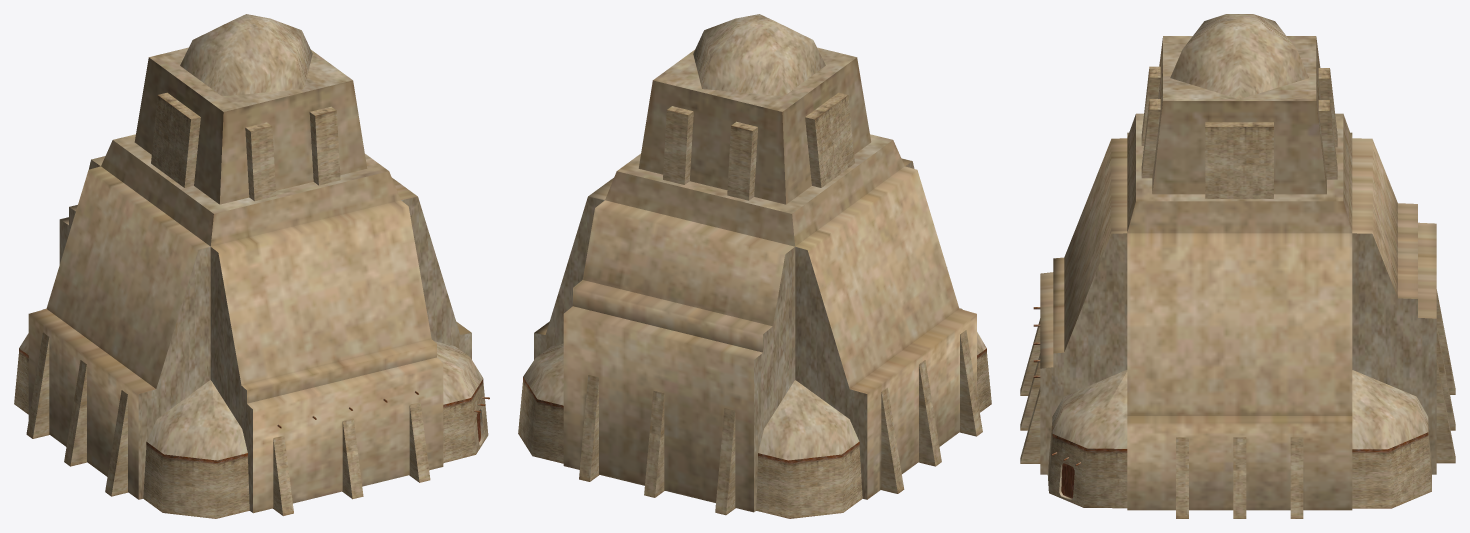
The model's file is thm_tato_imprv_building_s04_l2.fbx.
The picture shows the model from 3 angles, left to right: view 1: azimuth 30°, elevation 25°; view 2: azimuth 150°, elevation 25°; view 3: azimuth 270°, elevation 25°; orthographic projection. The views are drawn at different scales.
Visible parts, largest first — view 1: mesh_node; view 2: mesh_node; view 3: mesh_node.
Boxes of the visible parts, x1=… form: mesh_node: x1=14, y1=14, x2=489, y2=518; mesh_node: x1=518, y1=14, x2=991, y2=518; mesh_node: x1=1020, y1=14, x2=1455, y2=518.
Bounding box in the file's own units: 38 × 39.57 × 38.23.
